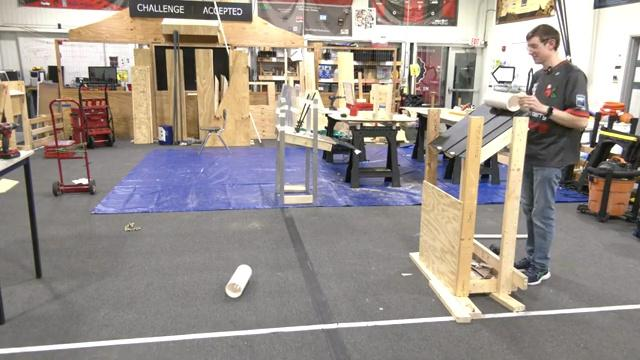CORAL: (224, 263, 252, 298), (483, 89, 520, 112)
